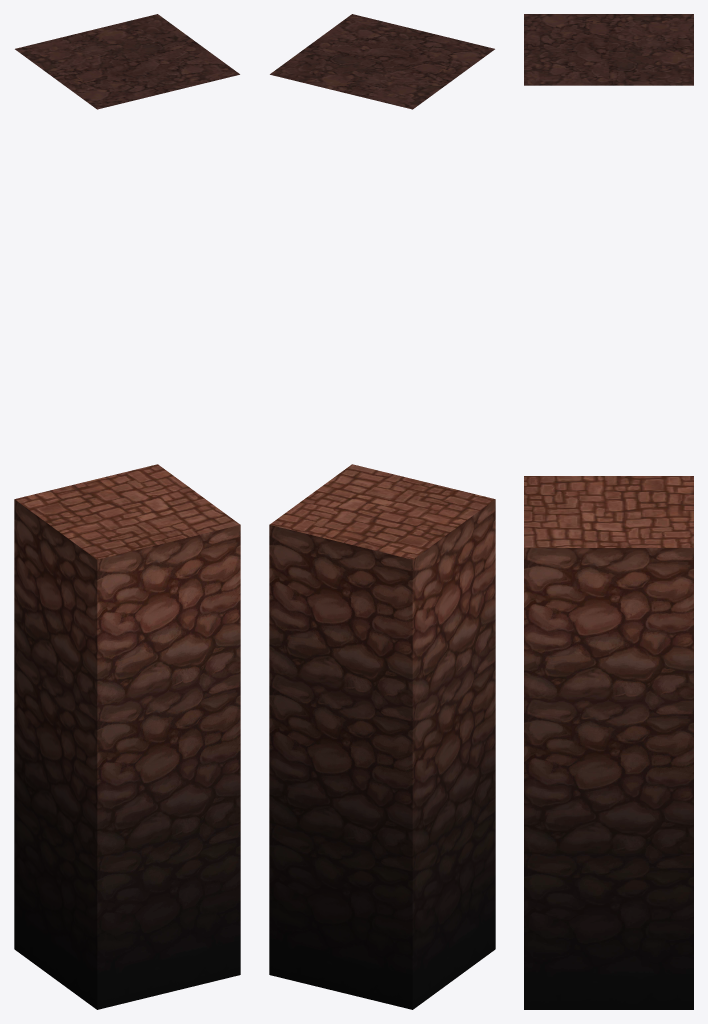
File: Floor_Obj_Test.obj
The picture shows the model from 3 angles, left to right: view 1: azimuth 30°, elevation 25°; view 2: azimuth 150°, elevation 25°; view 3: azimuth 270°, elevation 25°; orthographic projection. The views are drawn at different scales.
Parts seen in each view (by area): view 1: pPlane10; view 2: pPlane10; view 3: pPlane10.
Part boxes in pixels (box(x1,y1,x2,y2)): pPlane10: box(14, 14, 240, 1009); pPlane10: box(269, 14, 495, 1009); pPlane10: box(524, 14, 693, 1009).
Size of the model in its own units: 2 by 12 by 2.
Materials: 5 (5 with a texture image).
